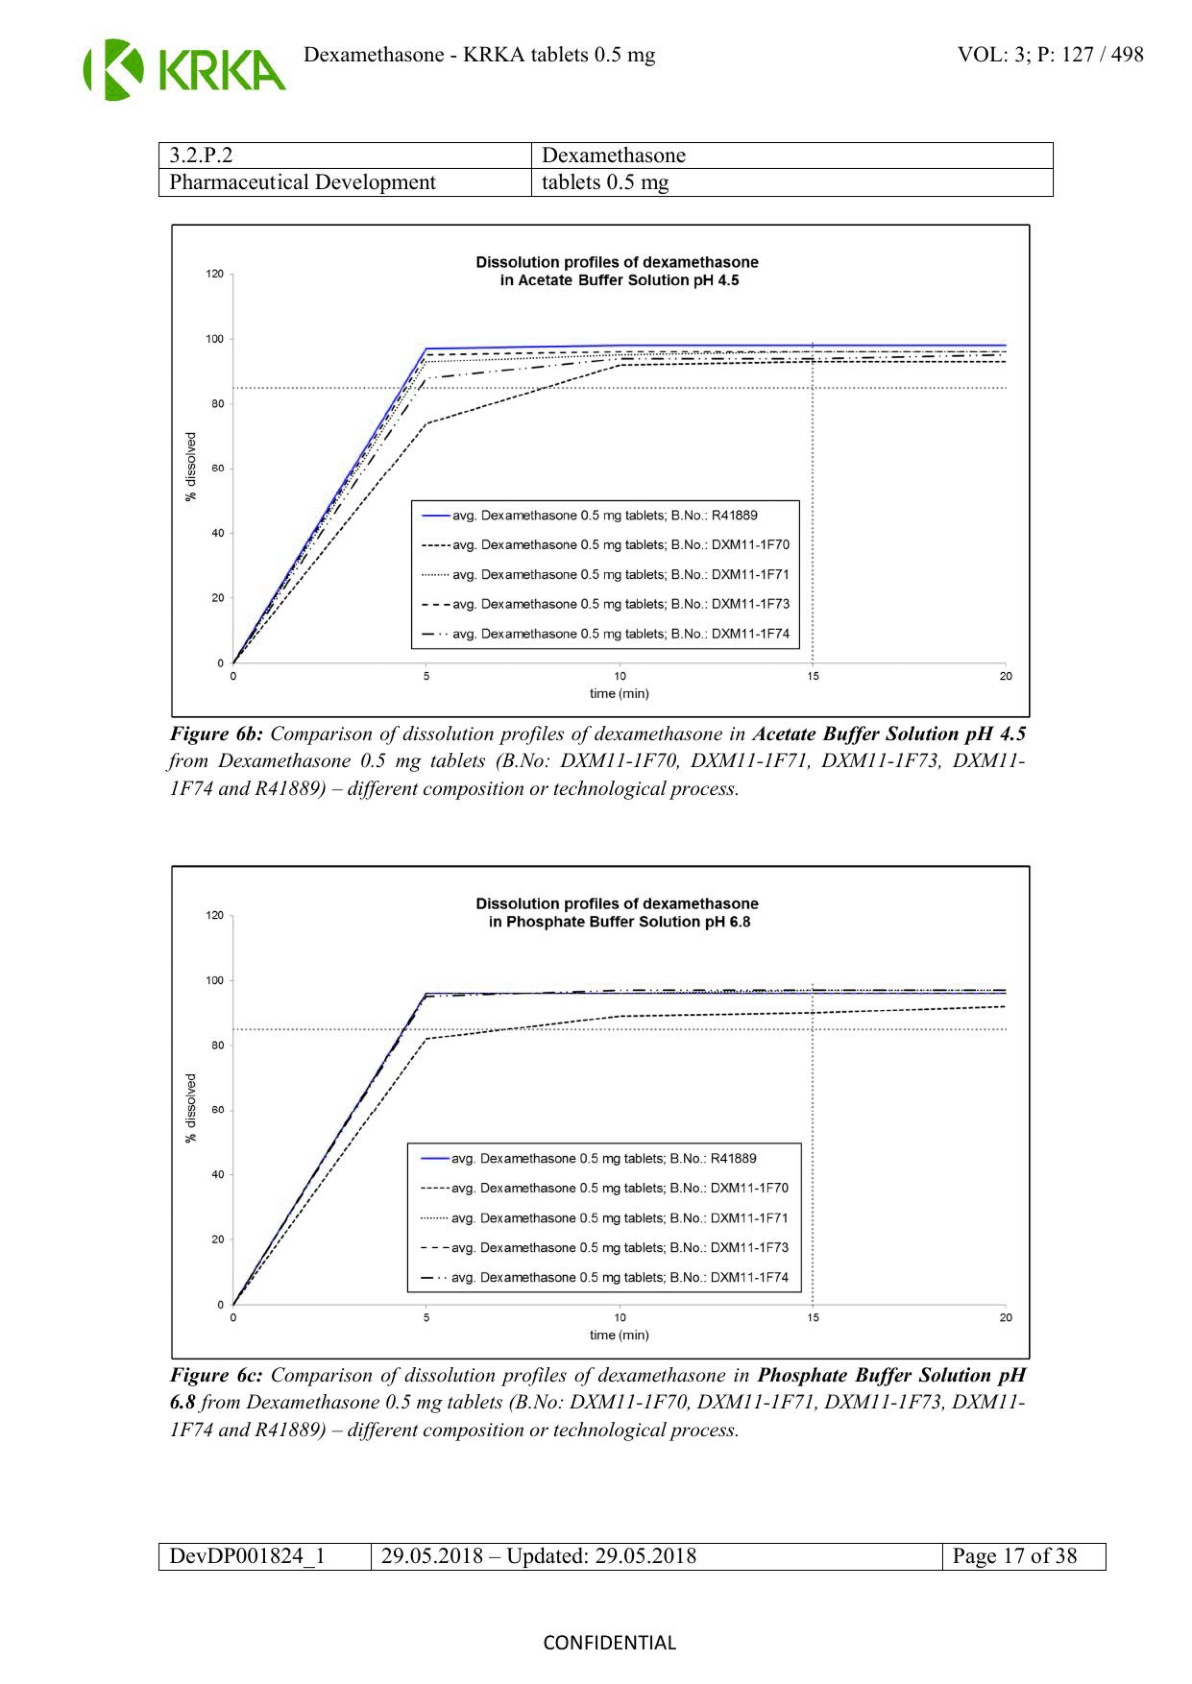full_lined: (156, 141, 1057, 193)
